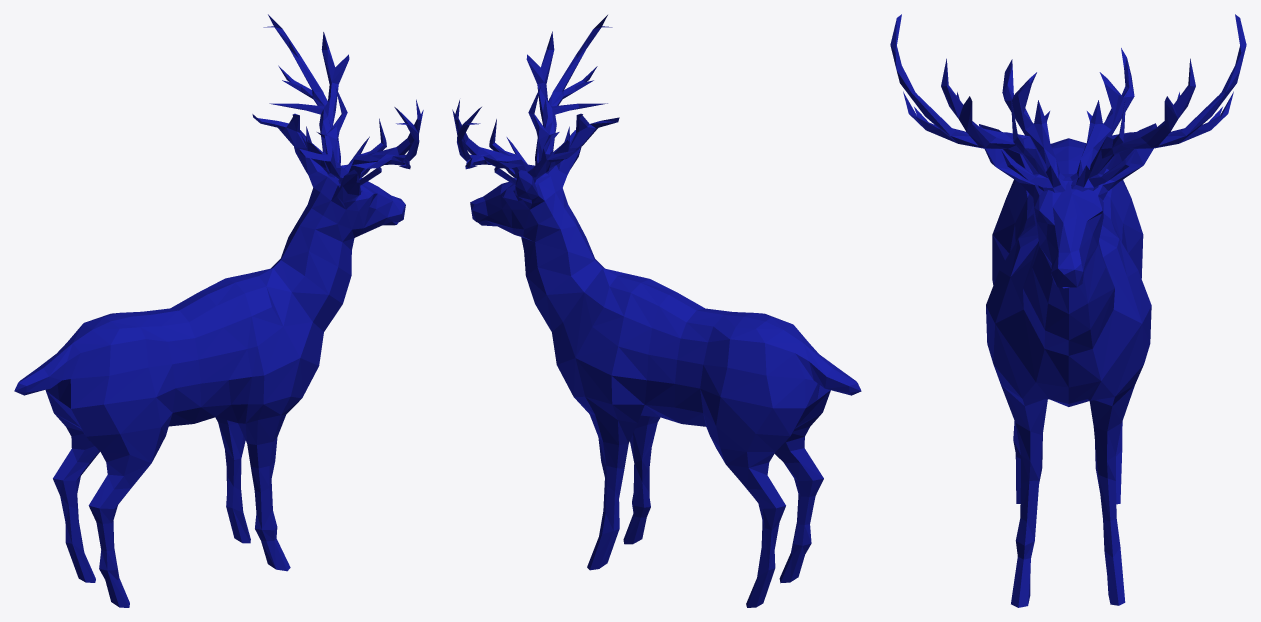
The model's file is deer1.obj.
3 views of the same model, side by side, from view 1: azimuth 30°, elevation 25°; view 2: azimuth 150°, elevation 25°; view 3: azimuth 270°, elevation 25° (orthographic). The views are drawn at different scales.
Parts seen in each view (by area): view 1: grp1_grp1_2; view 2: grp1_grp1_2; view 3: grp1_grp1_2.
Part boxes in pixels (left/top/right/bottom): grp1_grp1_2: left=14, top=14, right=423, bottom=607; grp1_grp1_2: left=452, top=15, right=861, bottom=607; grp1_grp1_2: left=890, top=14, right=1246, bottom=607.
Bounding box in the file's own units: 5.51 × 6.47 × 3.3.
